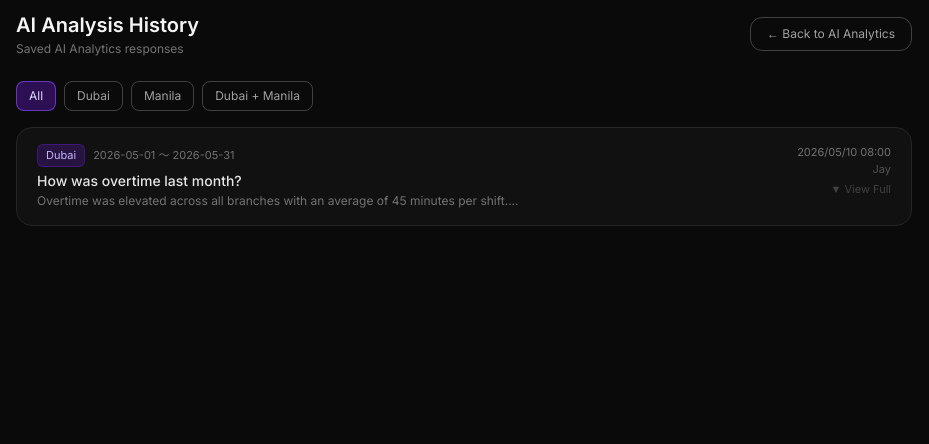
Test case: AiHistoryPage › collapses an expanded card on second click
Expected: the text "How was overtime last month?" is shown, [37,172,242,188]
Click the 5th button at (61, 155), box [17,128,911,224]
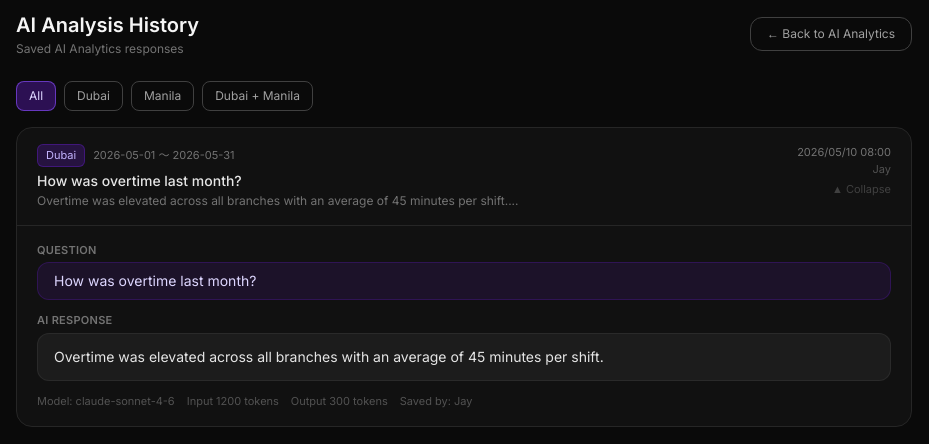
Result: the text "Model: claude-sonnet-4-6" is shown at [37,393,175,410]
Click the 5th button at (61, 155), box [17,128,911,224]
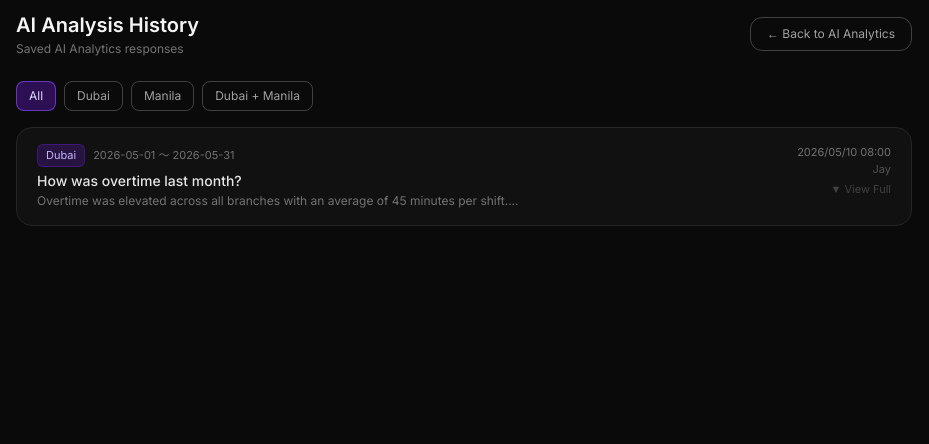
Result: the text "Model:" is gone
